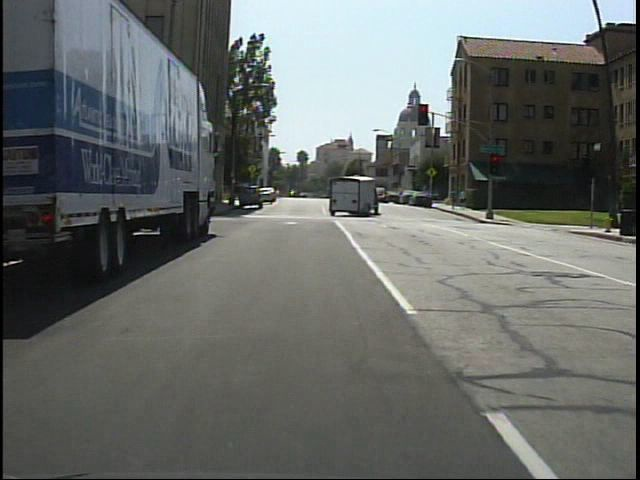person: (448, 184, 460, 210), (458, 185, 470, 211)
